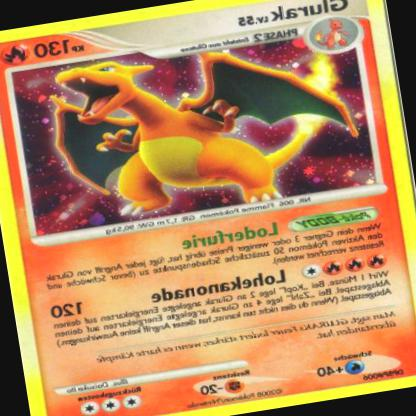Charizard: (39, 41, 326, 234)
